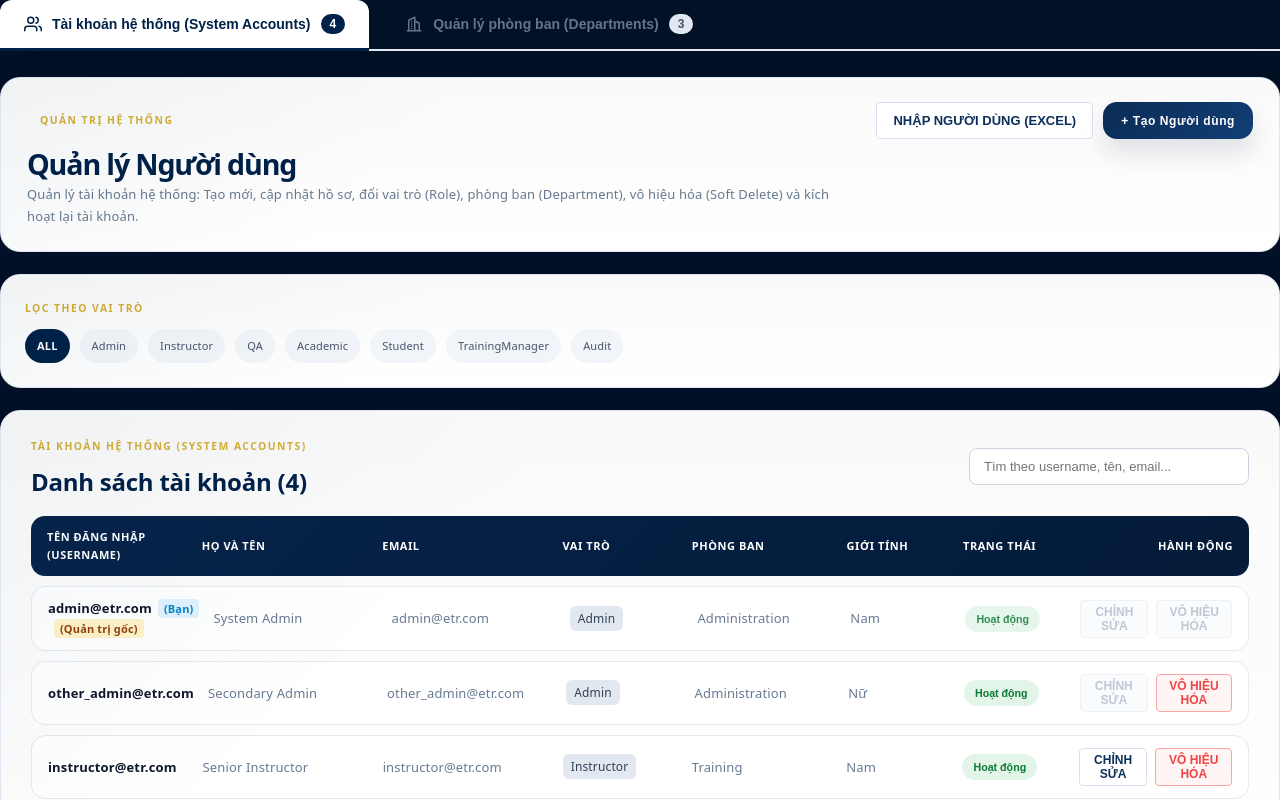
UserManagement - Admin Edit Account Permissions (BR-117) & Gender Options › shows only "Nam" and "Nữ" in Vietnamese mode without "(Female)" and without "Khác (Other)"
The width and height of the screenshot is (1280, 800).
Expected: the 1st text "instructor@etr.com" is shown, x1=48 y1=758 x2=188 y2=776
What coordinates should you click on to do the following:
click the button "Chỉnh sửa" in the row of "Senior Instructor"
I would click on:
 (1113, 767)
Its box is x1=1079 y1=748 x2=1148 y2=786.
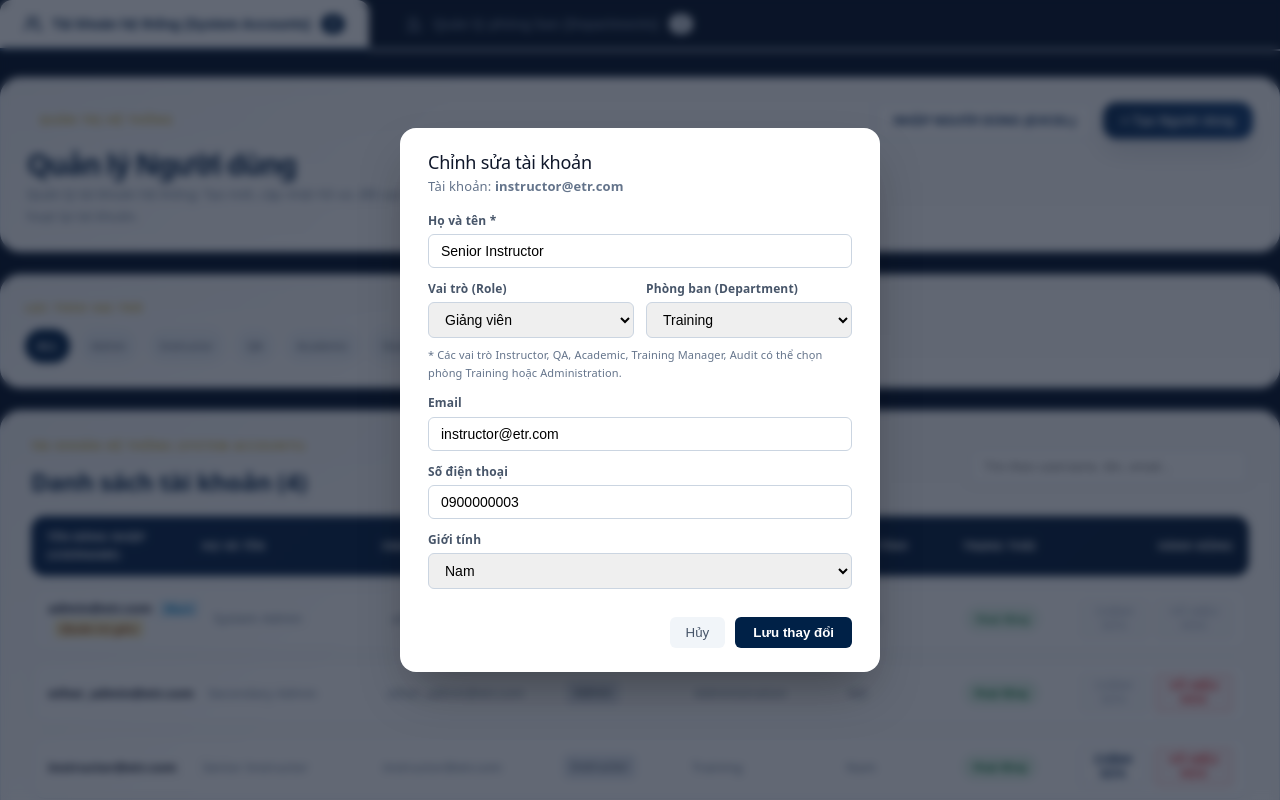
Result: the field showing "Senior Instructor" below "Họ và tên *" is shown at x1=428 y1=234 x2=852 y2=268
Result: the 3rd dropdown is shown at x1=428 y1=553 x2=852 y2=589
